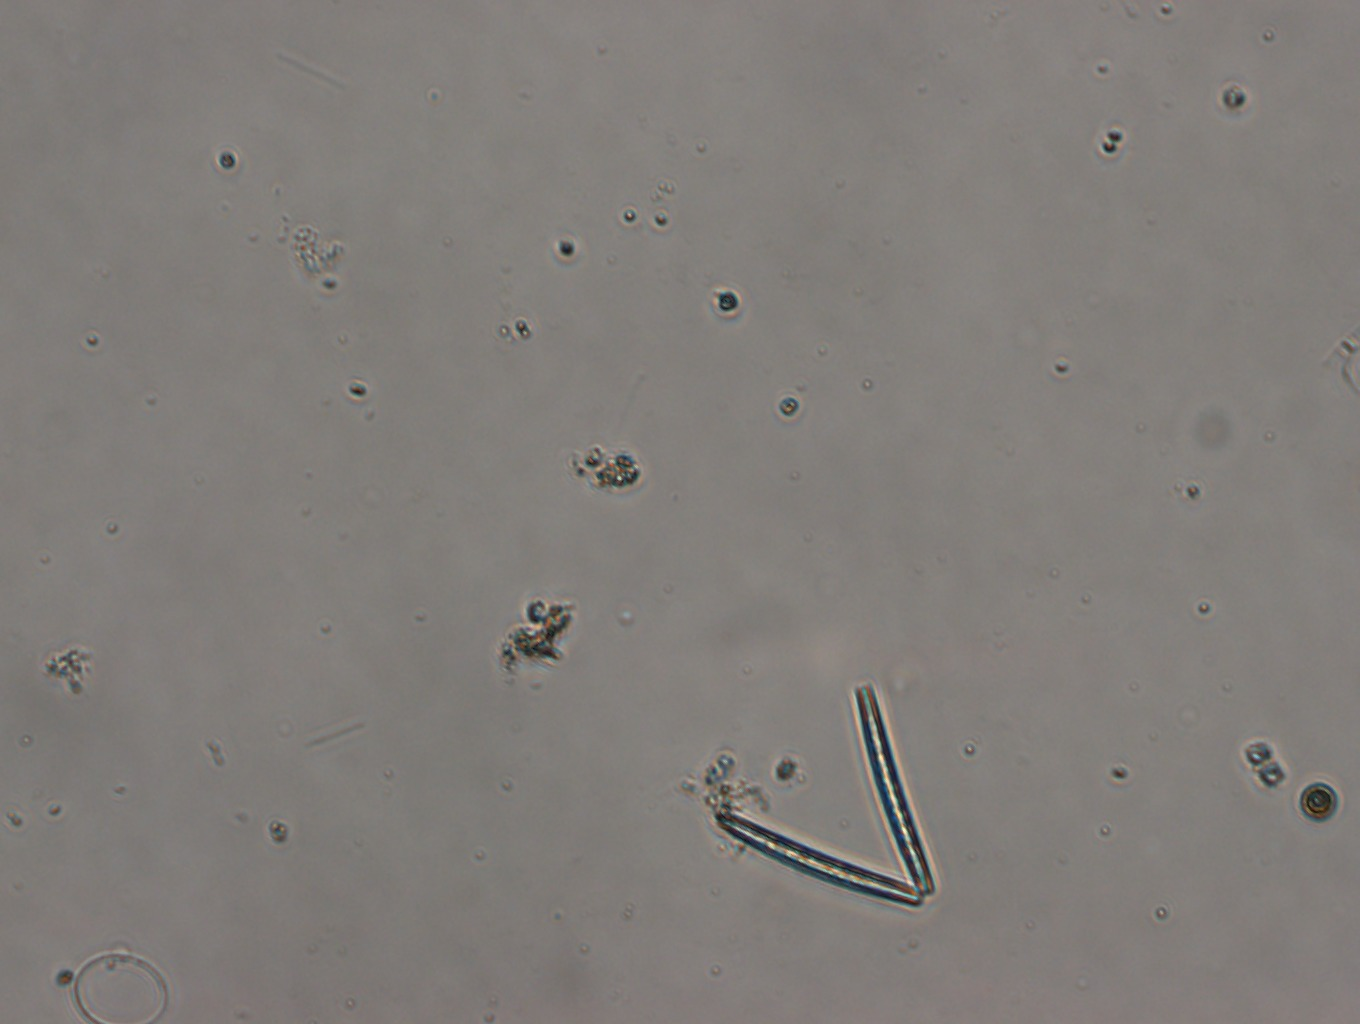thalassionema nitzschioides: (708, 681, 939, 909)
